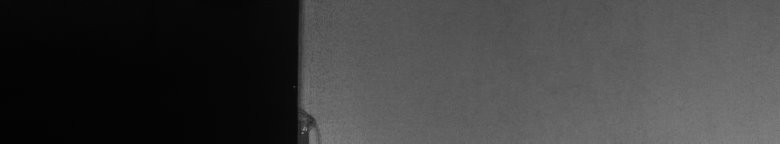hb: (308, 102, 324, 136)
